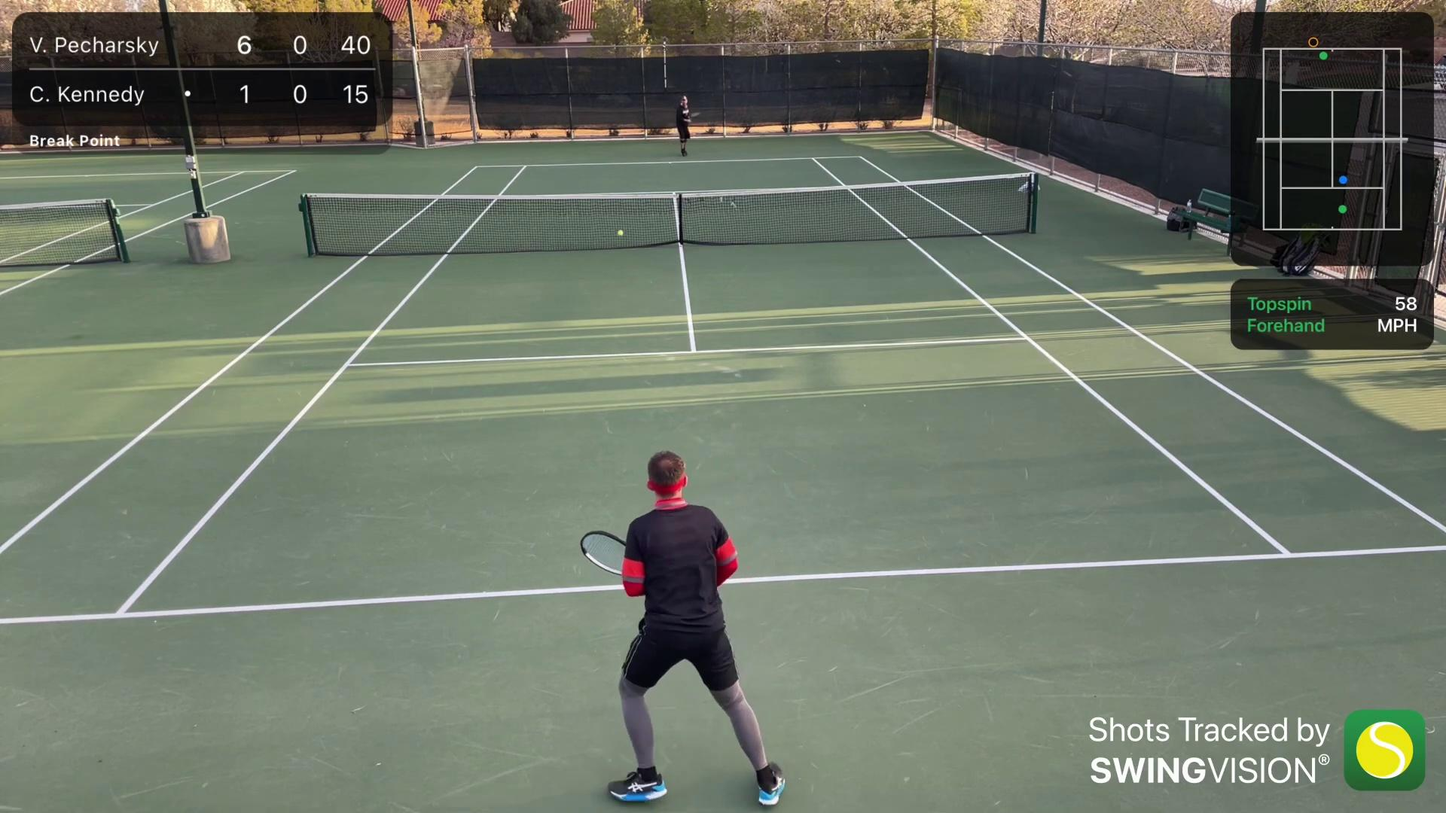ball: (617, 231, 624, 238)
